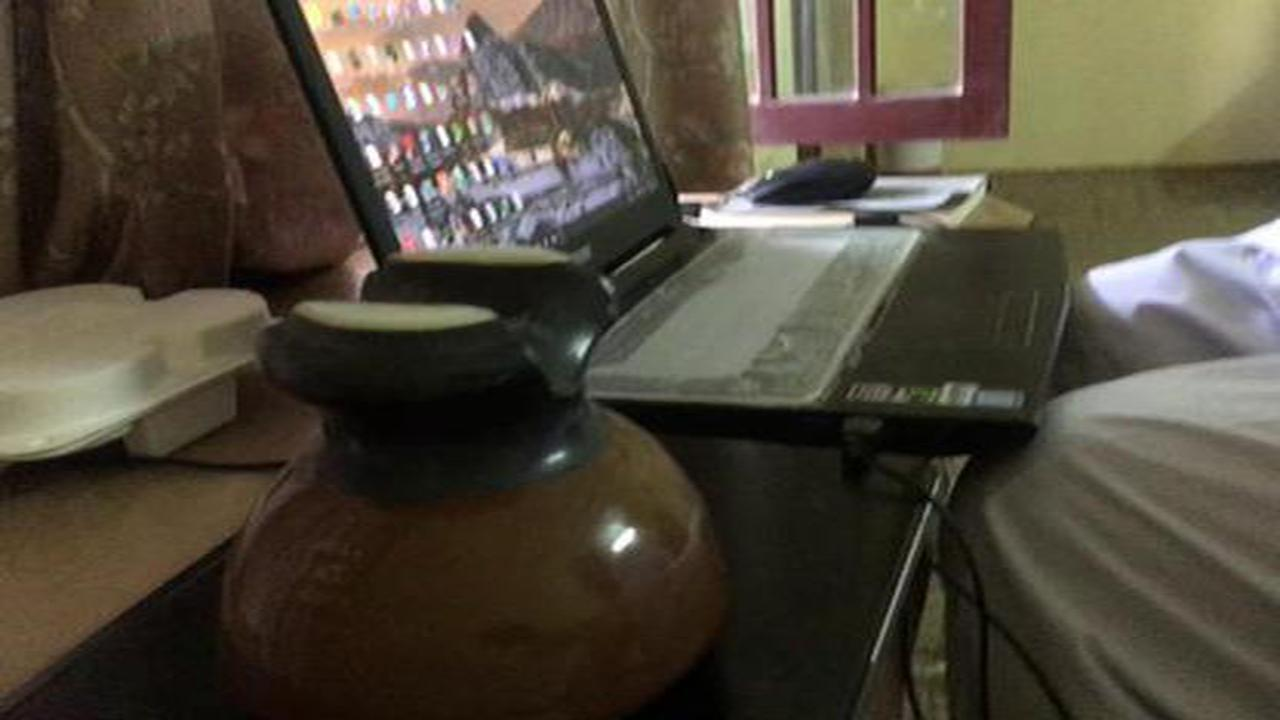insulator_pin: (188, 236, 754, 720)
